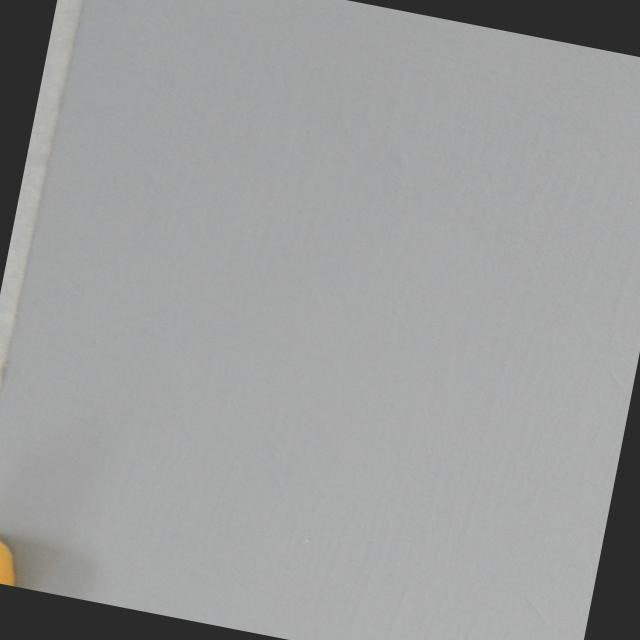pelicula: (0, 524, 33, 588)
